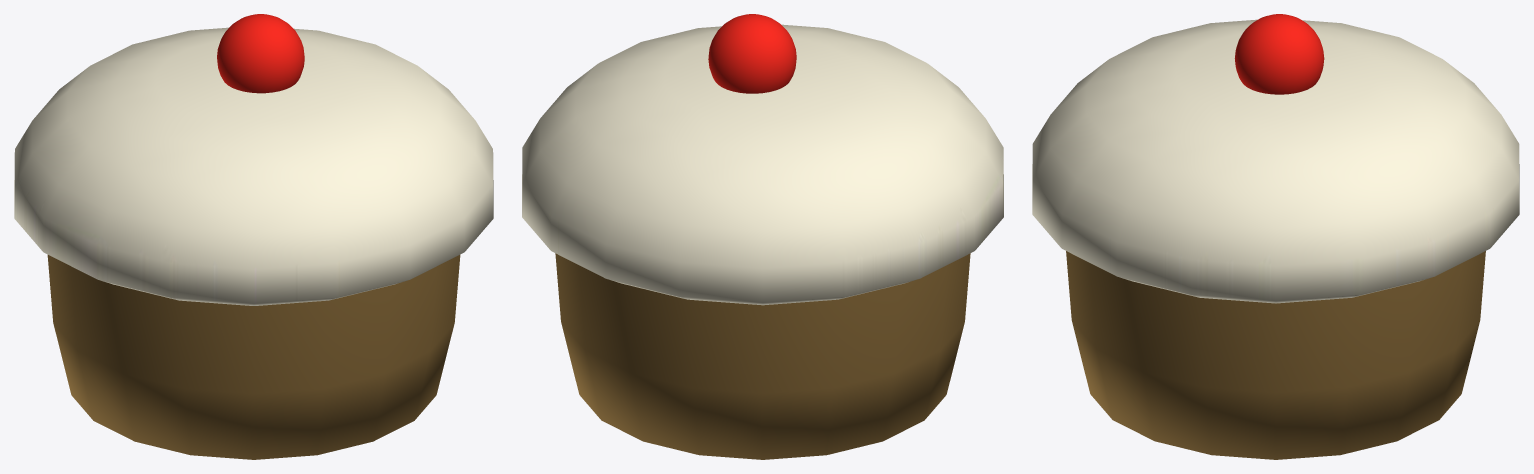
The model's file is Cupcake.FBX.
The picture shows the model from 3 angles, left to right: view 1: azimuth 30°, elevation 25°; view 2: azimuth 150°, elevation 25°; view 3: azimuth 270°, elevation 25°; orthographic projection.
Parts seen in each view (by area): view 1: Cylinder002, Sphere001; view 2: Cylinder002, Sphere001; view 3: Cylinder002, Sphere001.
Boxes of the visible parts, x1=… form: Cylinder002: x1=14, y1=27, x2=493, y2=459; Sphere001: x1=217, y1=14, x2=304, y2=93; Cylinder002: x1=522, y1=24, x2=1003, y2=459; Sphere001: x1=708, y1=14, x2=796, y2=93; Cylinder002: x1=1032, y1=19, x2=1519, y2=459; Sphere001: x1=1234, y1=14, x2=1324, y2=94.
Size of the model in its own units: 16.59 by 13.56 by 16.34.
Materials: 2 (1 with a texture image).
